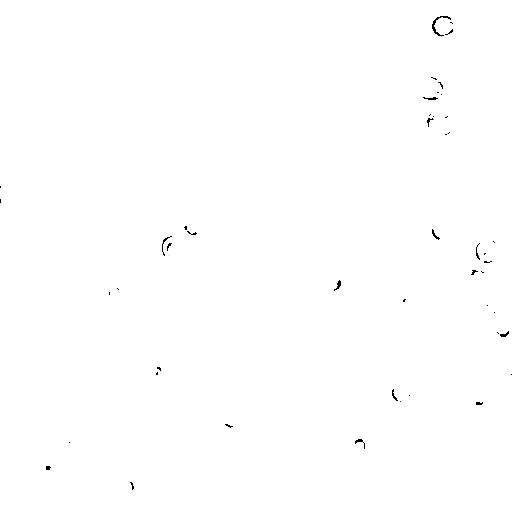micro-algae: (19, 22, 128, 131), (149, 0, 270, 62), (213, 439, 303, 511), (1, 199, 57, 314), (158, 347, 232, 421), (15, 409, 46, 441), (381, 280, 413, 311), (425, 107, 457, 137), (107, 435, 134, 467), (34, 451, 61, 480), (141, 241, 169, 268), (59, 432, 86, 459), (162, 235, 188, 262), (475, 236, 501, 263), (139, 1, 165, 27), (257, 24, 283, 50), (417, 76, 444, 101), (379, 465, 406, 490), (213, 115, 239, 139), (430, 15, 457, 38), (431, 215, 453, 240), (149, 68, 169, 95), (87, 275, 110, 298), (391, 381, 414, 403), (468, 267, 490, 289), (183, 111, 207, 131), (321, 270, 342, 292), (250, 425, 269, 449), (67, 257, 89, 277), (318, 501, 358, 511), (404, 221, 421, 241), (173, 285, 191, 302), (387, 214, 403, 233), (183, 219, 201, 235), (108, 284, 124, 301), (224, 411, 241, 427), (493, 321, 510, 337), (351, 437, 367, 453), (89, 503, 117, 512), (2, 184, 15, 203), (123, 478, 136, 496), (473, 389, 486, 406), (321, 437, 335, 451), (150, 362, 162, 377), (503, 362, 512, 381), (50, 109, 63, 122), (484, 303, 498, 315), (389, 0, 405, 5)
